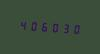four: (17, 17, 26, 32)
six: (38, 19, 47, 33)
three: (58, 20, 67, 35)
zero: (27, 18, 36, 33), (48, 19, 57, 34), (68, 21, 77, 35)
